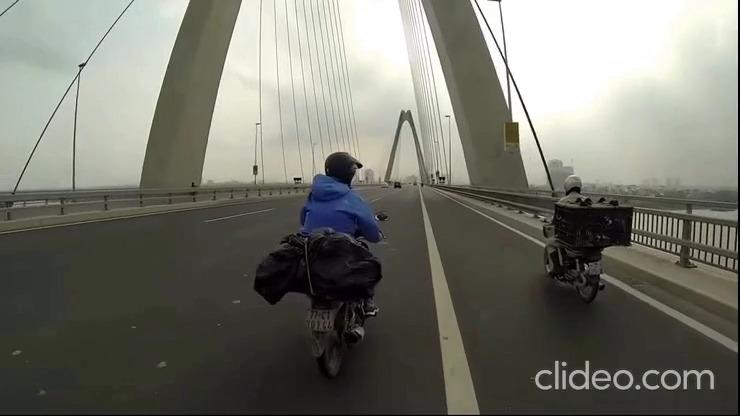helmet: (323, 151, 363, 190), (563, 174, 583, 197)
